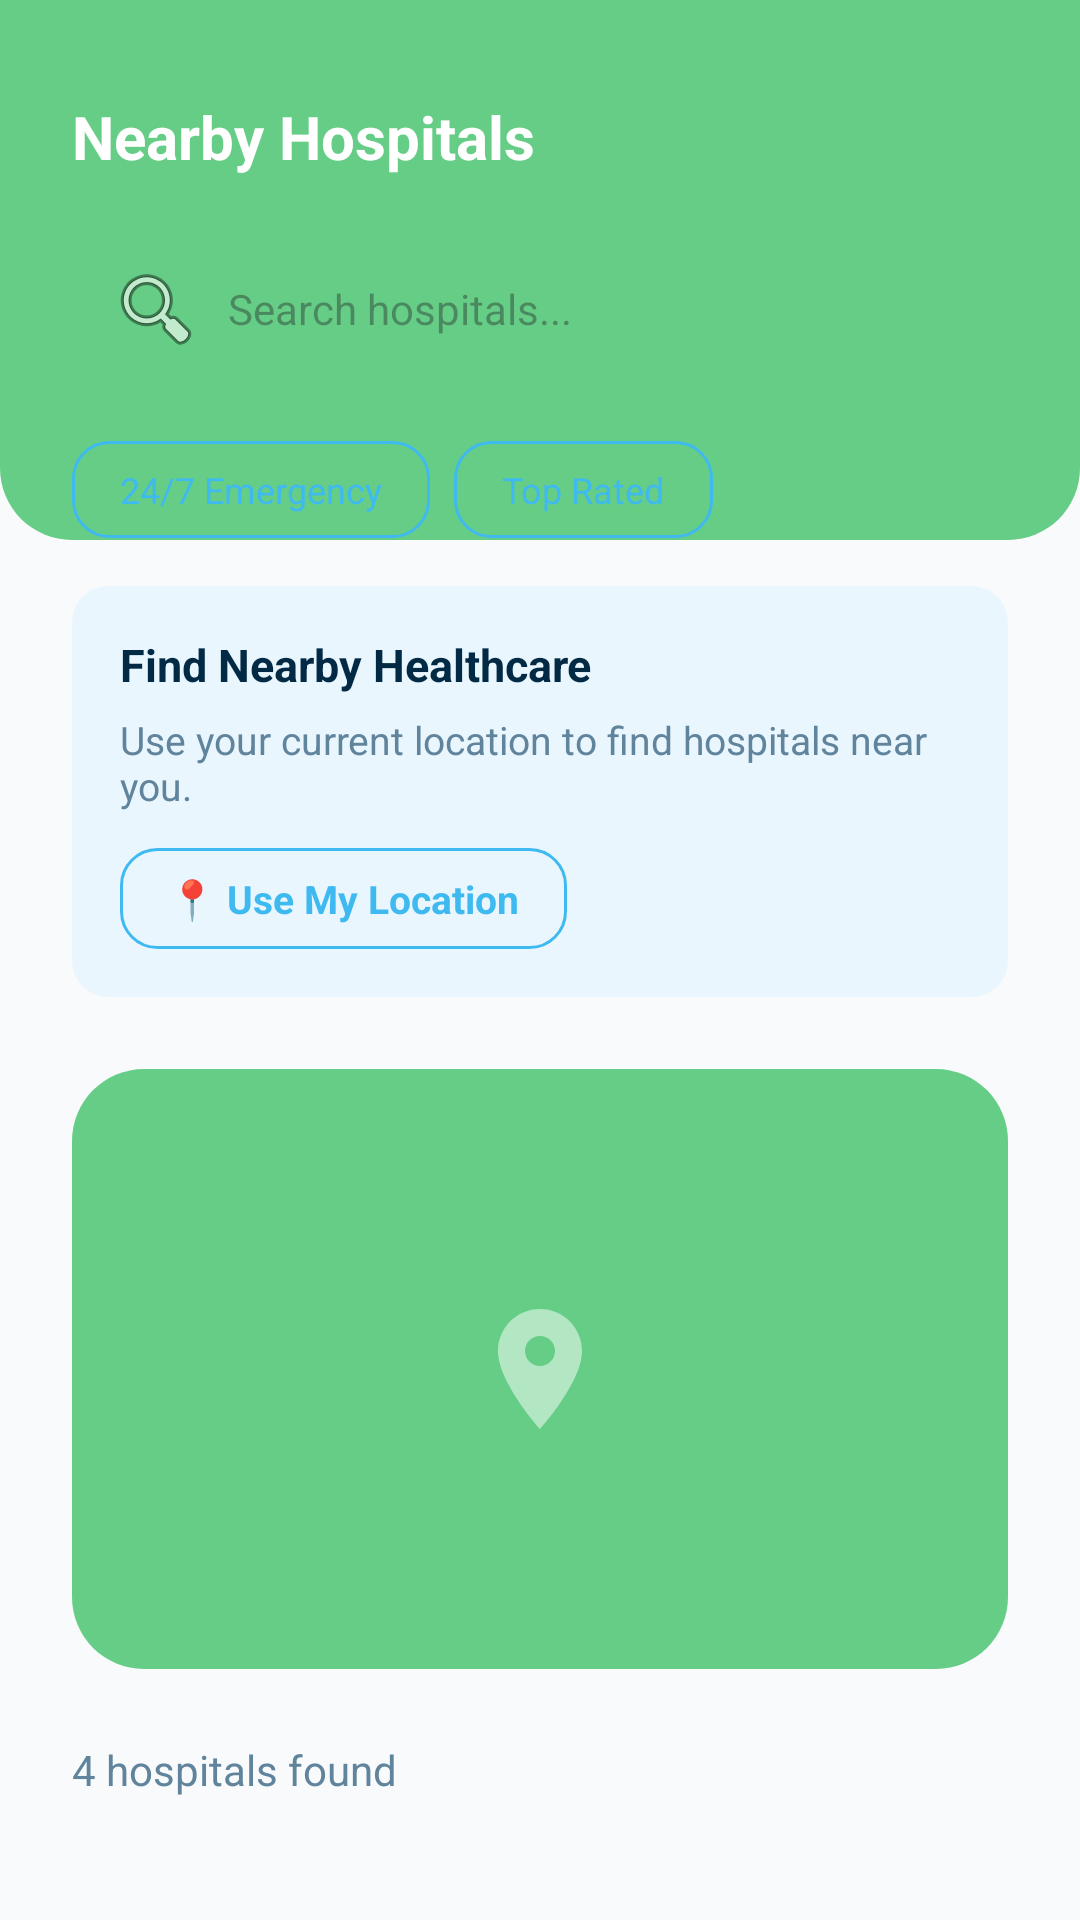

Locate icon controls on the screen. Image size 1080*1920, boxes as (x1, y1, x2, y2).
location pin: (498, 1309, 582, 1429)
